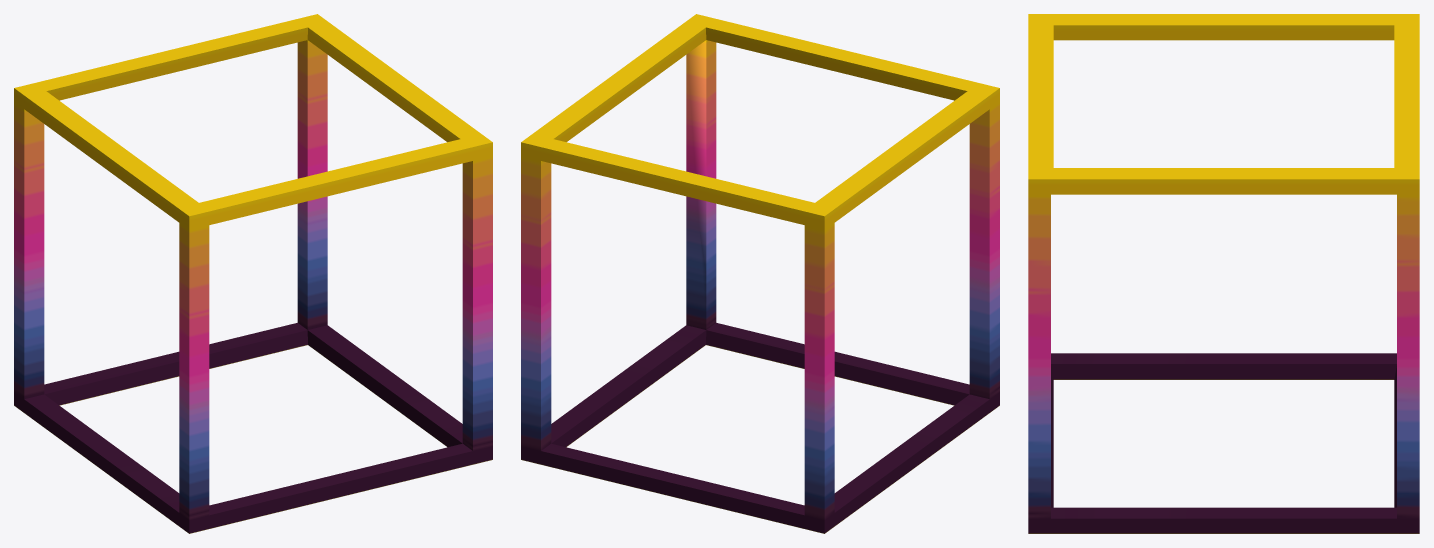
The model's file is Structure_Vapor_Frame_Neon_01_Art.fbx.
The picture shows the model from 3 angles, left to right: view 1: azimuth 30°, elevation 25°; view 2: azimuth 150°, elevation 25°; view 3: azimuth 270°, elevation 25°; orthographic projection. The views are drawn at different scales.
Visible parts, largest first — view 1: Structure_Vapor_Frame_Neon_01_Art; view 2: Structure_Vapor_Frame_Neon_01_Art; view 3: Structure_Vapor_Frame_Neon_01_Art.
Part boxes in pixels (<box>): Structure_Vapor_Frame_Neon_01_Art: <box>14,14,492,533</box>; Structure_Vapor_Frame_Neon_01_Art: <box>521,14,999,533</box>; Structure_Vapor_Frame_Neon_01_Art: <box>1028,14,1419,533</box>.
Bounding box in the file's own units: 6.65 × 6.65 × 6.65.
